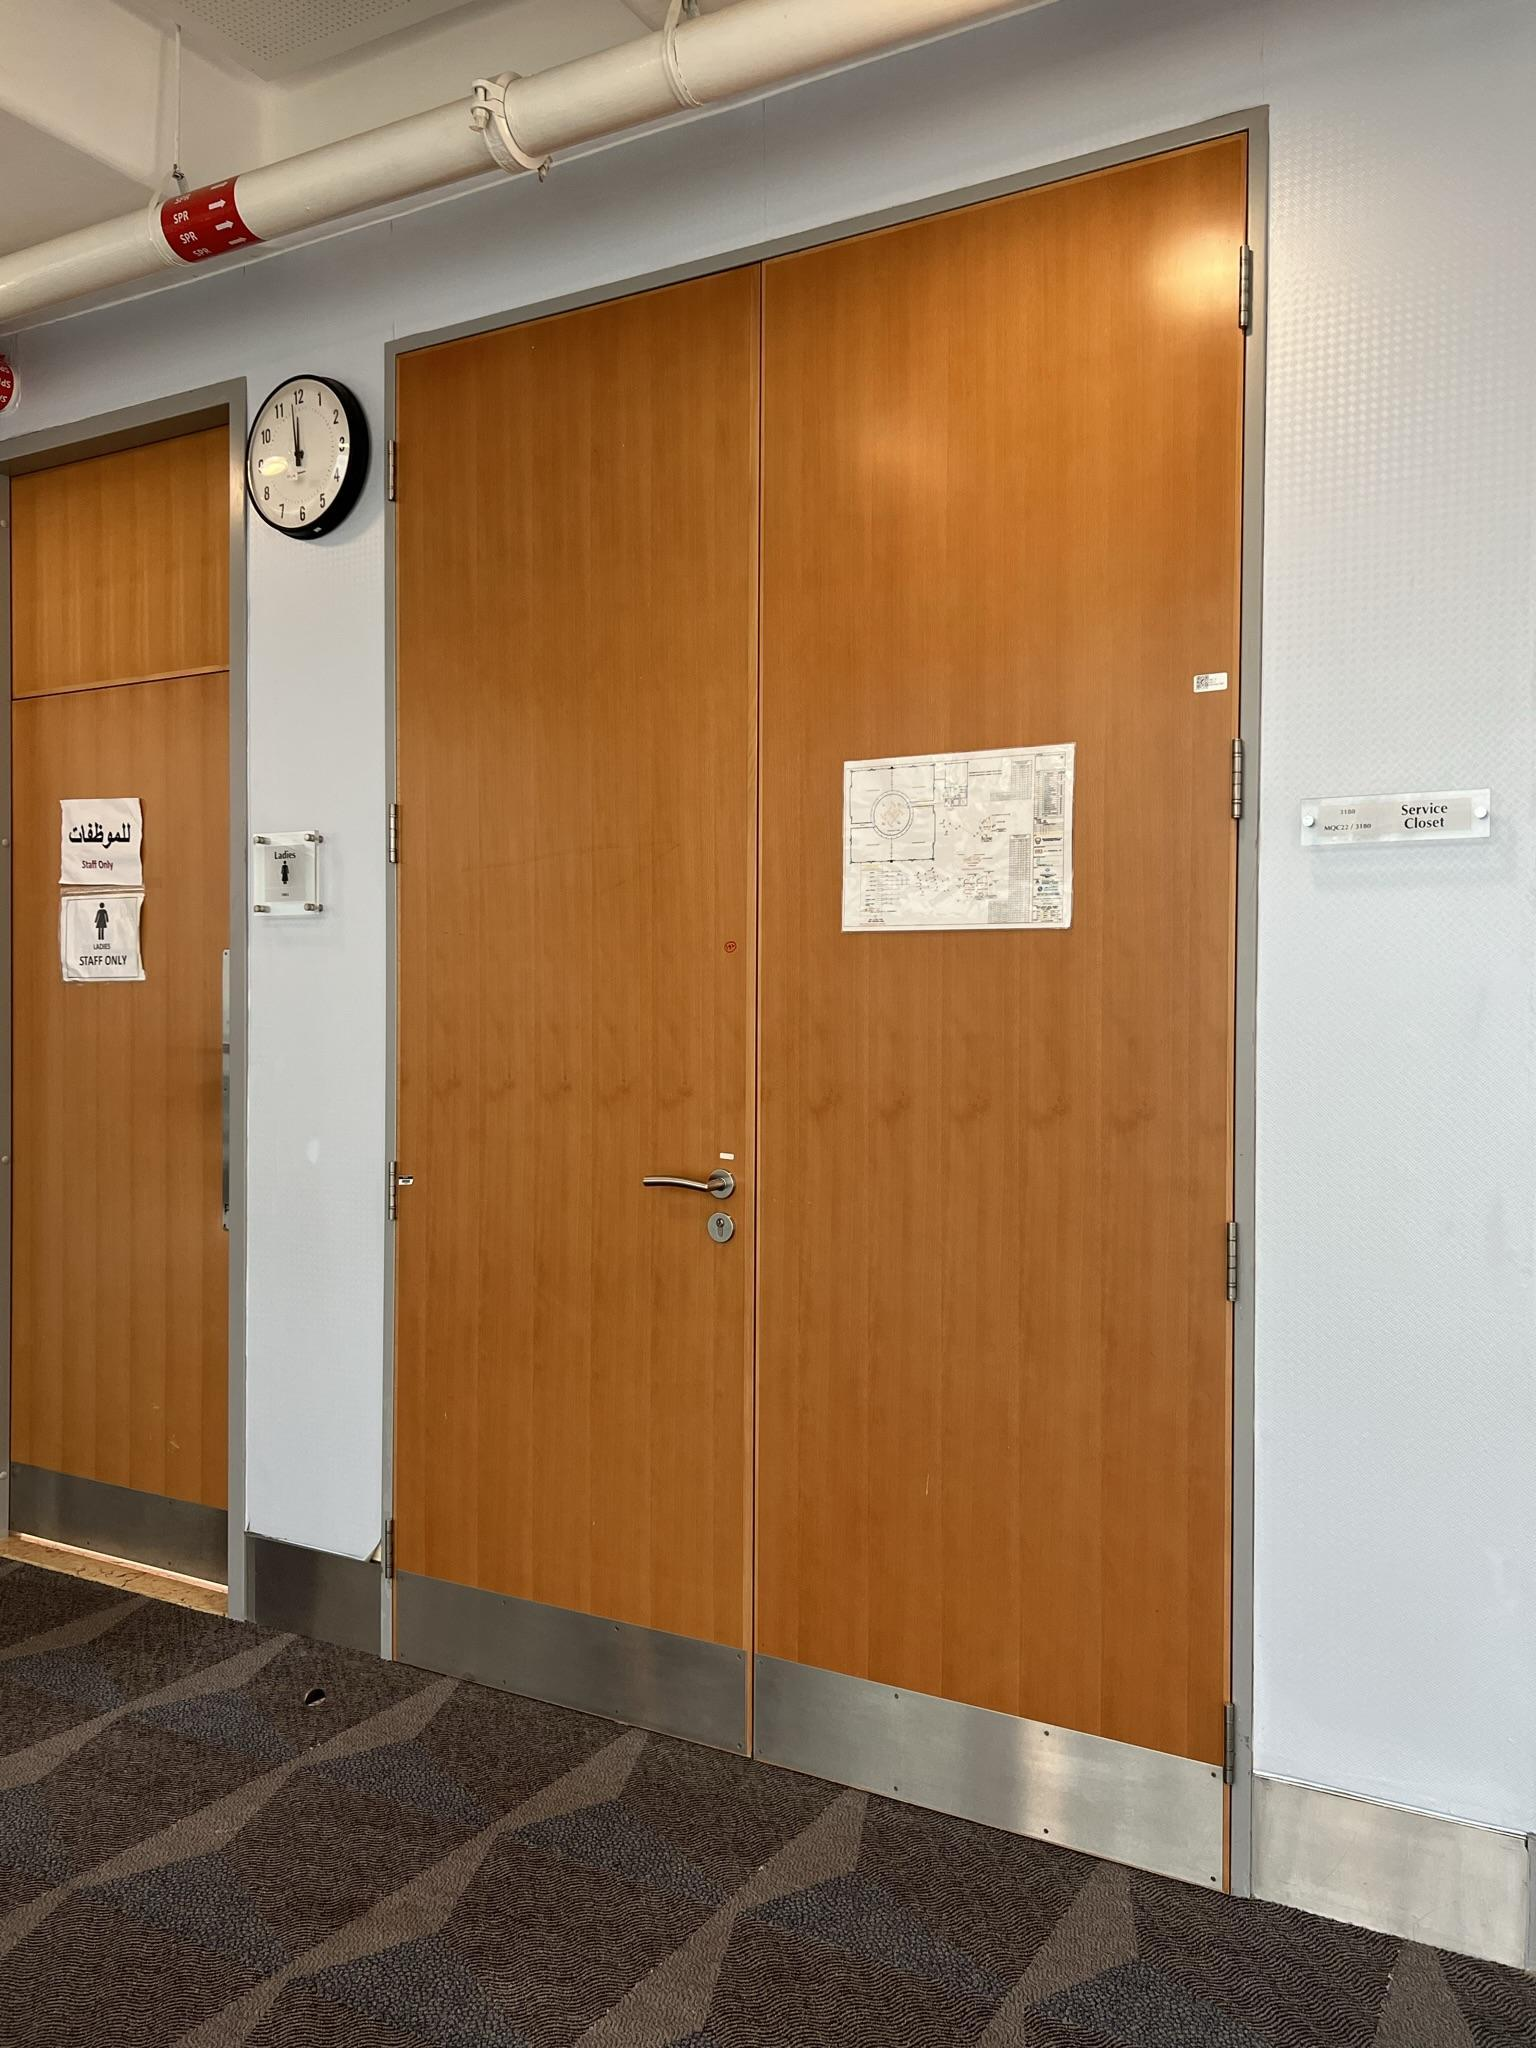door: (802, 226, 1254, 1866), (407, 311, 765, 1782), (18, 426, 240, 1587)
handle: (642, 1147, 757, 1258)
